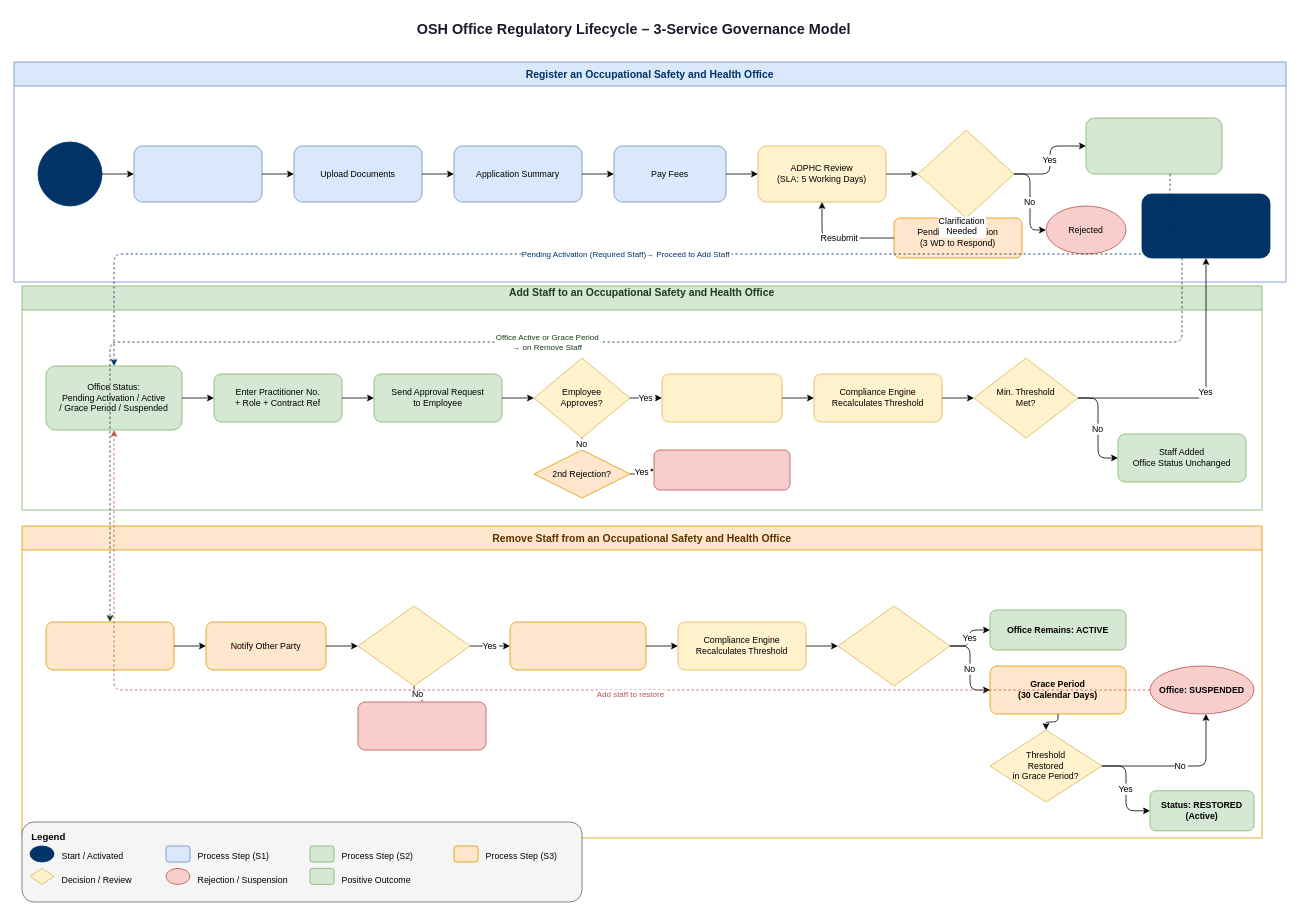
This 1300x916 diagram has some shape labels left out. The centre of each missing label's shape, as x and y in pixels:
"6-Month Cooling Period" goes at (x=721, y=469).
"Acknowledged within 5 WD?" goes at (x=413, y=645).
"Approved?" goes at (x=965, y=173).
"Enter Application Details DED Project Experience" goes at (x=197, y=173).
"Escalation (No Response)" goes at (x=421, y=725).
"Office Status: ACTIVE Registration Card Issued Public Registry Sync" goes at (x=1205, y=225).
"Removal Initiated (Office OR Employee)" goes at (x=109, y=645).
"Remove Staff Association" goes at (x=577, y=645).
"Start" goes at (x=69, y=173).
"Status: Pending Activation( Required Staff) Preliminary Approved(Letter)" goes at (x=1153, y=145).
"Still Meets Min. Threshold?" goes at (x=893, y=645).
"Validates Eligibility" goes at (x=721, y=397).
